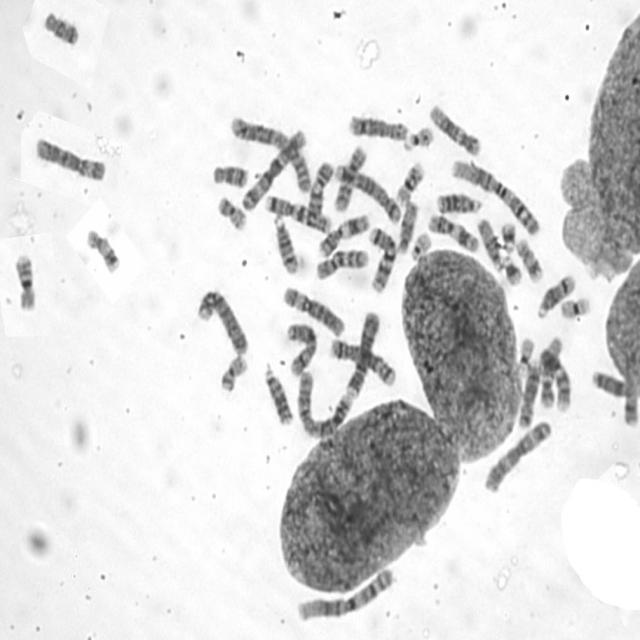A1: (449, 156, 542, 237), (294, 562, 395, 624)
A2: (228, 112, 314, 196), (296, 368, 354, 440)
A3: (236, 123, 309, 212), (482, 417, 552, 494)
B4: (194, 284, 250, 356), (344, 308, 381, 403)
B5: (332, 160, 402, 225), (328, 334, 398, 388)
C10: (331, 143, 369, 213), (312, 245, 370, 282)
C11: (315, 210, 371, 258), (426, 210, 480, 254)
C12: (427, 101, 482, 157), (539, 335, 566, 411)
C6: (33, 133, 107, 183), (280, 282, 346, 338)
C7: (262, 192, 332, 234), (366, 222, 397, 296)
C8: (346, 112, 409, 142), (515, 359, 541, 430)
C9: (538, 346, 573, 413), (304, 157, 334, 220)
D13: (262, 360, 294, 427), (434, 189, 482, 216)
D14: (534, 272, 576, 320), (271, 211, 300, 276)
D15: (474, 214, 503, 270), (394, 197, 420, 255)
E16: (393, 156, 426, 206), (12, 250, 38, 313)
E17: (84, 224, 121, 275), (514, 234, 544, 284)
E18: (40, 8, 80, 47), (209, 162, 250, 190)
F19: (558, 293, 592, 320), (516, 334, 536, 374)
F20: (217, 352, 249, 393), (216, 193, 248, 231)
G21: (500, 253, 523, 287), (499, 218, 518, 255)
G22: (400, 124, 435, 152), (408, 229, 432, 262)
X: (588, 366, 640, 428), (283, 320, 318, 378)
